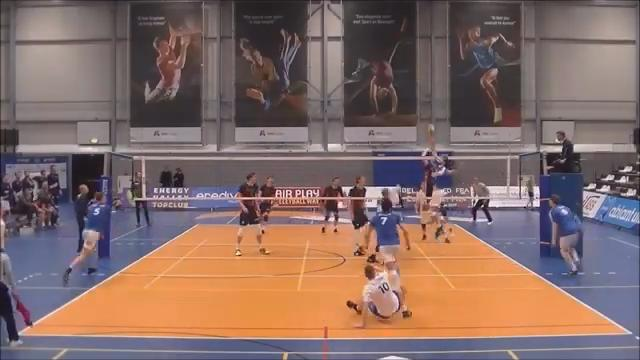alzata: (422, 136, 452, 245)
